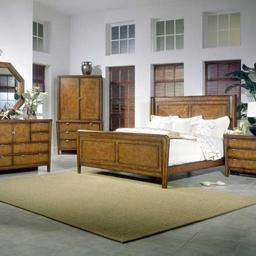Armario: (59, 74, 101, 155)
Cama: (75, 93, 238, 177)
Ventana: (107, 68, 133, 128), (206, 62, 239, 94), (154, 65, 185, 96)
